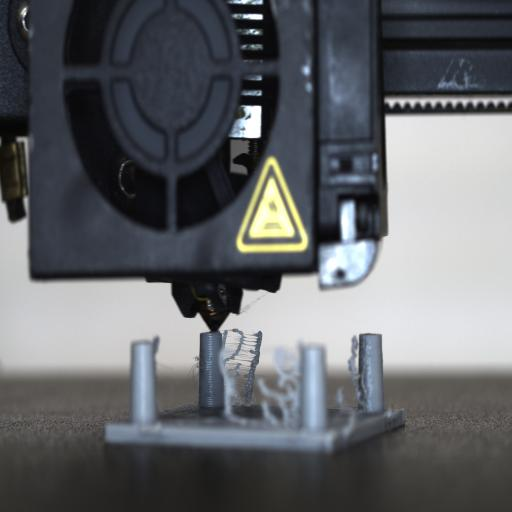stringing: (222, 337, 349, 431)
